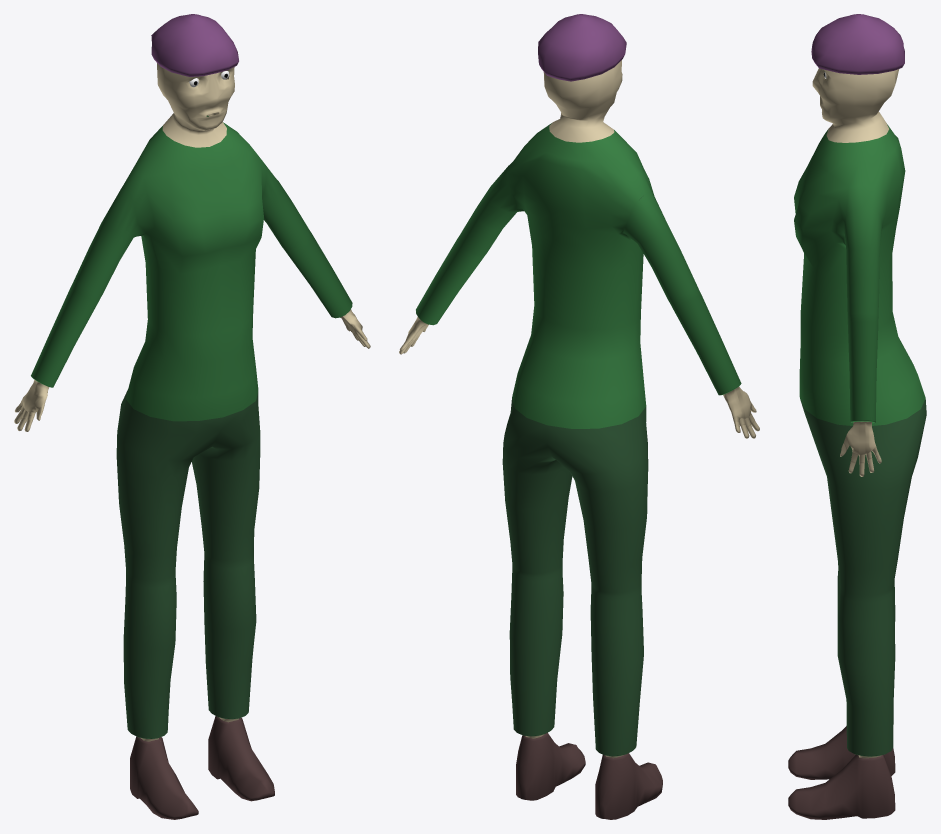
Rendered from Character_3_Still.fbx.
3 views of the same model, side by side, from view 1: azimuth 30°, elevation 25°; view 2: azimuth 150°, elevation 25°; view 3: azimuth 270°, elevation 25° (orthographic).
Parts seen in each view (by area): view 1: Body_Geom, Hat_Geom; view 2: Body_Geom, Hat_Geom; view 3: Body_Geom, Hat_Geom.
Boxes of the visible parts, x1,y1,x2,y2 form: Body_Geom: (14, 63, 370, 819); Hat_Geom: (151, 14, 238, 76); Body_Geom: (399, 60, 759, 819); Hat_Geom: (538, 14, 626, 81); Body_Geom: (788, 68, 926, 819); Hat_Geom: (811, 14, 904, 74).
Size of the model in its own units: 0.7557 by 1.6 by 0.2585.
Materials: 3 (3 with a texture image).
